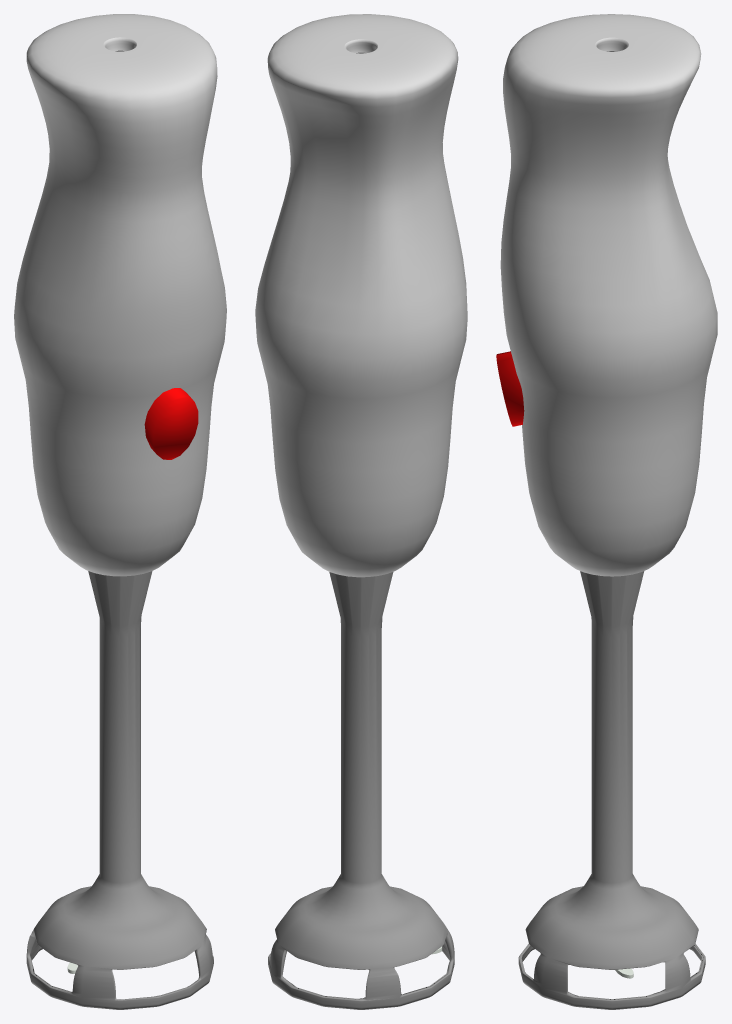
The picture shows the model from 3 angles, left to right: view 1: azimuth 30°, elevation 25°; view 2: azimuth 150°, elevation 25°; view 3: azimuth 270°, elevation 25°; orthographic projection.
Visible parts, largest first — view 1: cuerpo bat_Mixer_Shaft, cuerpo bat_Mixer_Bar, cuerpo bat_Mixer_Knob; view 2: cuerpo bat_Mixer_Shaft, cuerpo bat_Mixer_Bar; view 3: cuerpo bat_Mixer_Shaft, cuerpo bat_Mixer_Bar, cuerpo bat_Mixer_Knob.
Boxes of the visible parts, x1=… form: cuerpo bat_Mixer_Shaft: x1=14, y1=14, x2=226, y2=576; cuerpo bat_Mixer_Bar: x1=26, y1=571, x2=213, y2=1009; cuerpo bat_Mixer_Knob: x1=144, y1=388, x2=198, y2=459; cuerpo bat_Mixer_Shaft: x1=255, y1=14, x2=467, y2=577; cuerpo bat_Mixer_Bar: x1=268, y1=572, x2=454, y2=1009; cuerpo bat_Mixer_Shaft: x1=500, y1=14, x2=717, y2=576; cuerpo bat_Mixer_Bar: x1=518, y1=571, x2=705, y2=1009; cuerpo bat_Mixer_Knob: x1=496, y1=351, x2=524, y2=426.
Size of the model in its own units: 3.67 by 17.66 by 3.83.
